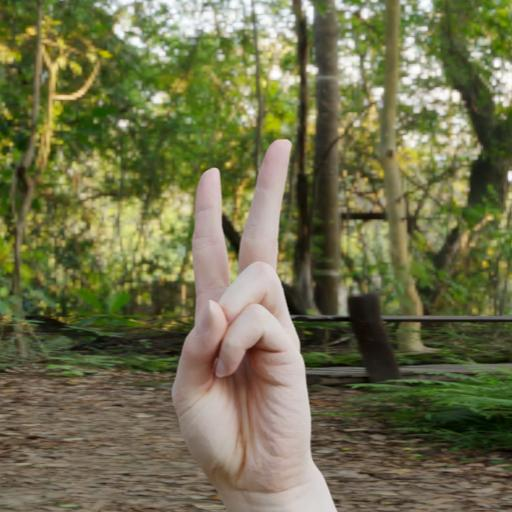V: (158, 127, 320, 505)
